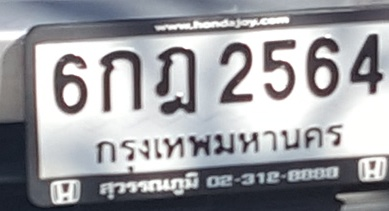num6: (50, 52, 90, 116)
txt01: (98, 48, 145, 114)
txt11: (153, 44, 198, 115)
